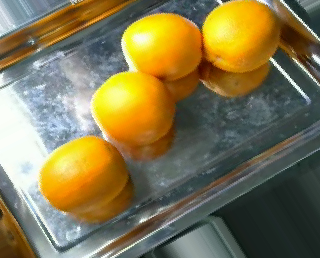Orange: (39, 135, 129, 211), (88, 70, 175, 144), (200, 1, 282, 72), (120, 12, 201, 80)
